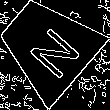N_NW: (15, 14, 79, 78)
